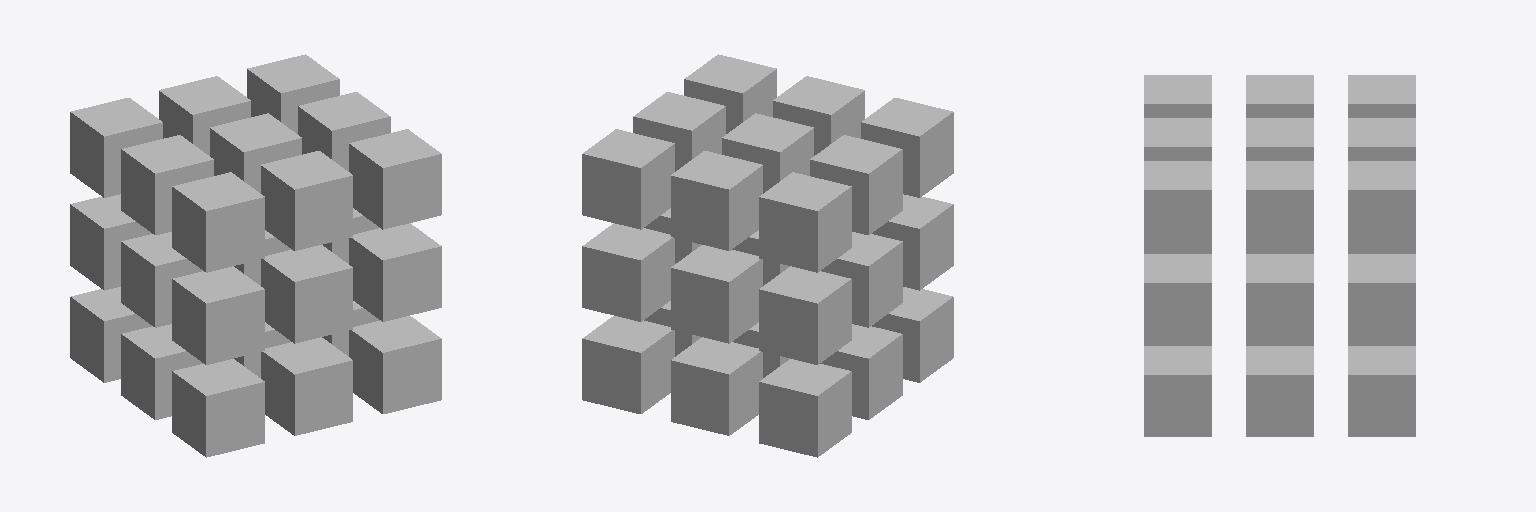
File: Icon3DNominal.obj
3 views of the same model, side by side, from view 1: azimuth 30°, elevation 25°; view 2: azimuth 150°, elevation 25°; view 3: azimuth 270°, elevation 25° (orthographic).
Parts seen in each view (by area): view 1: Cube.000_Cube.004; view 2: Cube.000_Cube.004; view 3: Cube.000_Cube.004.
Boxes of the visible parts, x1,y1,x2,y2 form: Cube.000_Cube.004: [70, 54, 441, 457]; Cube.000_Cube.004: [582, 54, 953, 457]; Cube.000_Cube.004: [1144, 75, 1415, 436].
Size of the model in its own units: 0.08 by 0.08 by 0.08.